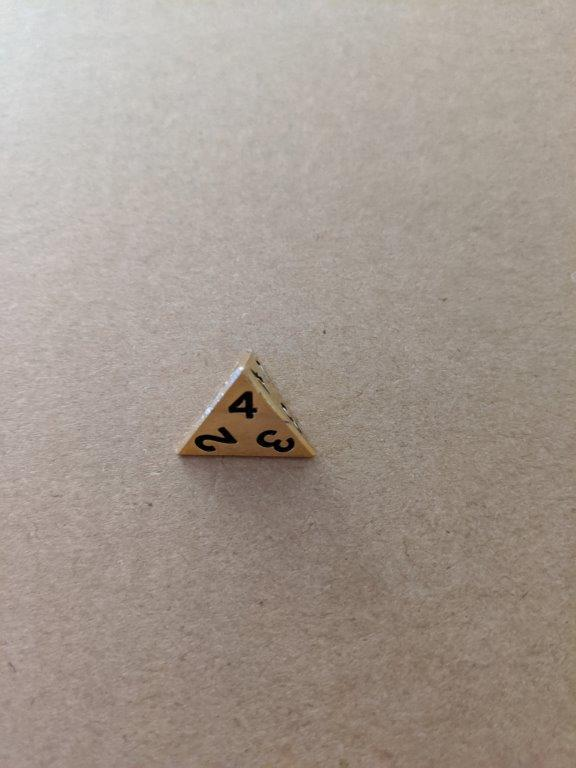d4-4: (170, 345, 320, 461)
